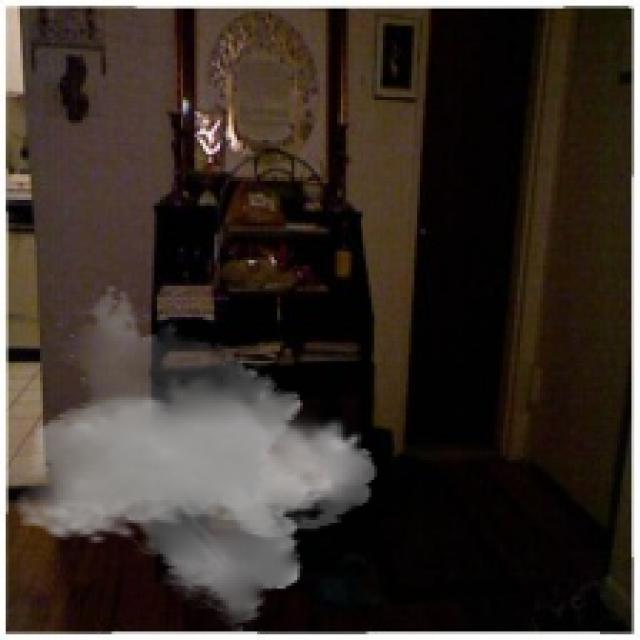smoke: (14, 283, 377, 634)
